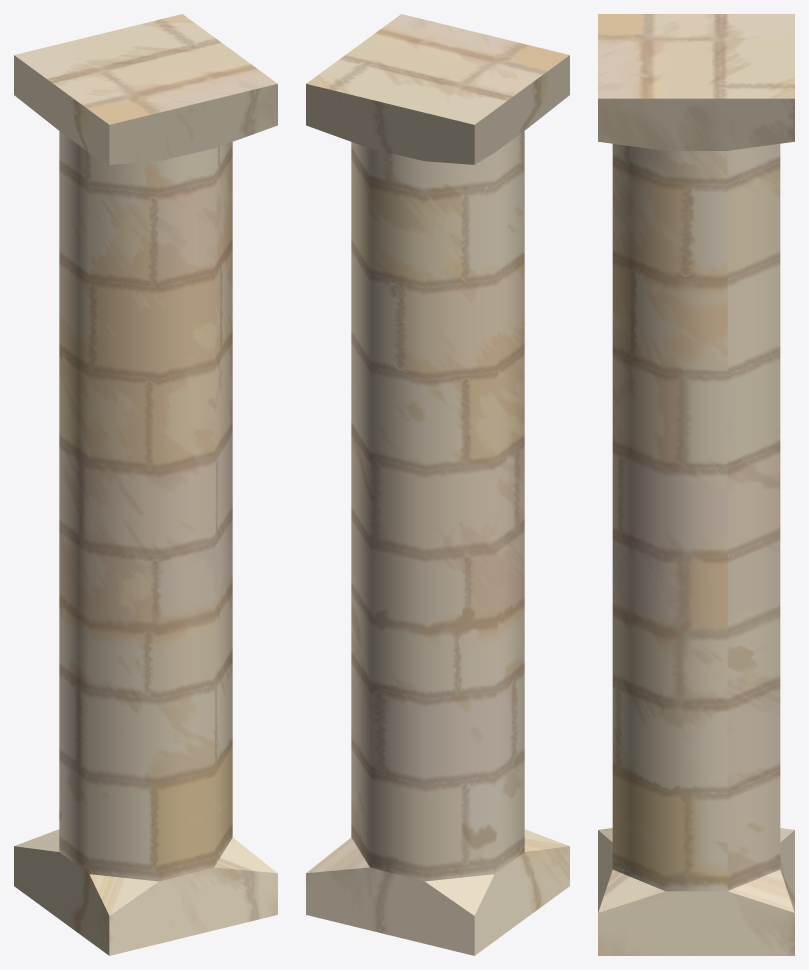
Rendered from Column_c.fbx.
The picture shows the model from 3 angles, left to right: view 1: azimuth 30°, elevation 25°; view 2: azimuth 150°, elevation 25°; view 3: azimuth 270°, elevation 25°; orthographic projection. The views are drawn at different scales.
Parts seen in each view (by area): view 1: pCube42; view 2: pCube42; view 3: pCube42.
Part boxes in pixels (<box>): pCube42: <box>14,14,277,955</box>; pCube42: <box>306,14,569,955</box>; pCube42: <box>598,14,794,955</box>.
Bounding box in the file's own units: 1.6 × 7.55 × 1.57.
